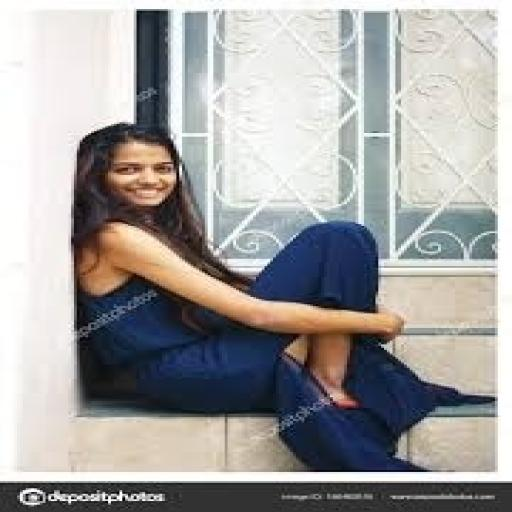sitting: (71, 120, 492, 470)
